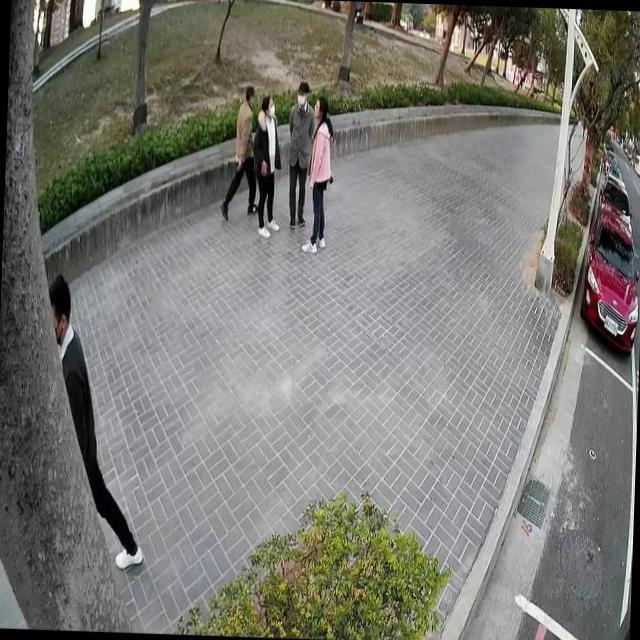person: (36, 267, 156, 572), (298, 90, 338, 256), (218, 80, 262, 226), (247, 89, 284, 241), (283, 76, 315, 228)
